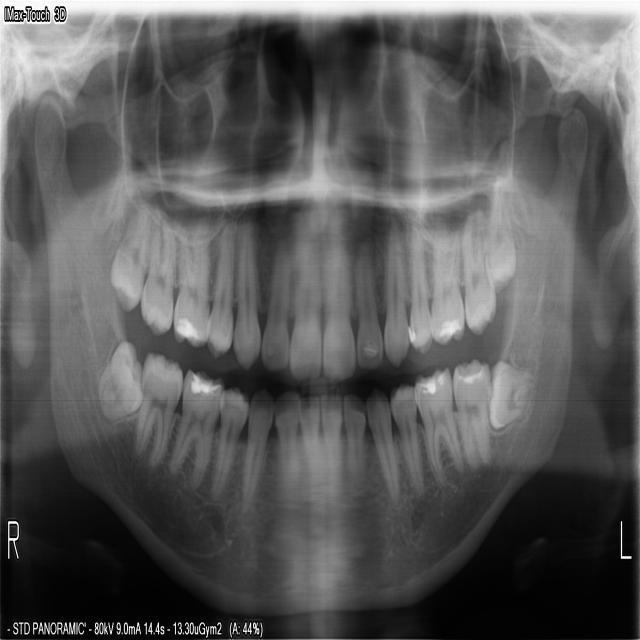LCD: (365, 384, 401, 514)
LCU: (382, 210, 410, 371)
LID: (320, 389, 343, 513), (342, 391, 366, 507)
LIU: (321, 211, 354, 384), (352, 222, 383, 373)
LMD: (413, 362, 464, 493), (451, 353, 491, 475), (488, 354, 536, 431)
LMU: (461, 203, 498, 340), (430, 211, 466, 349), (487, 164, 516, 296)
LPMD: (389, 378, 424, 500)
LPMU: (408, 207, 432, 358)
RCD: (238, 383, 272, 514)
RCU: (230, 211, 259, 371)
RID: (272, 387, 298, 521), (298, 392, 325, 518)
RIU: (287, 223, 322, 382), (258, 224, 290, 375)
RMD: (164, 362, 223, 496), (130, 349, 182, 471), (92, 338, 138, 422)
RMU: (105, 193, 151, 314), (170, 214, 209, 351), (137, 203, 174, 339)
RPMD: (205, 382, 247, 506)
RPMU: (203, 218, 235, 363)
